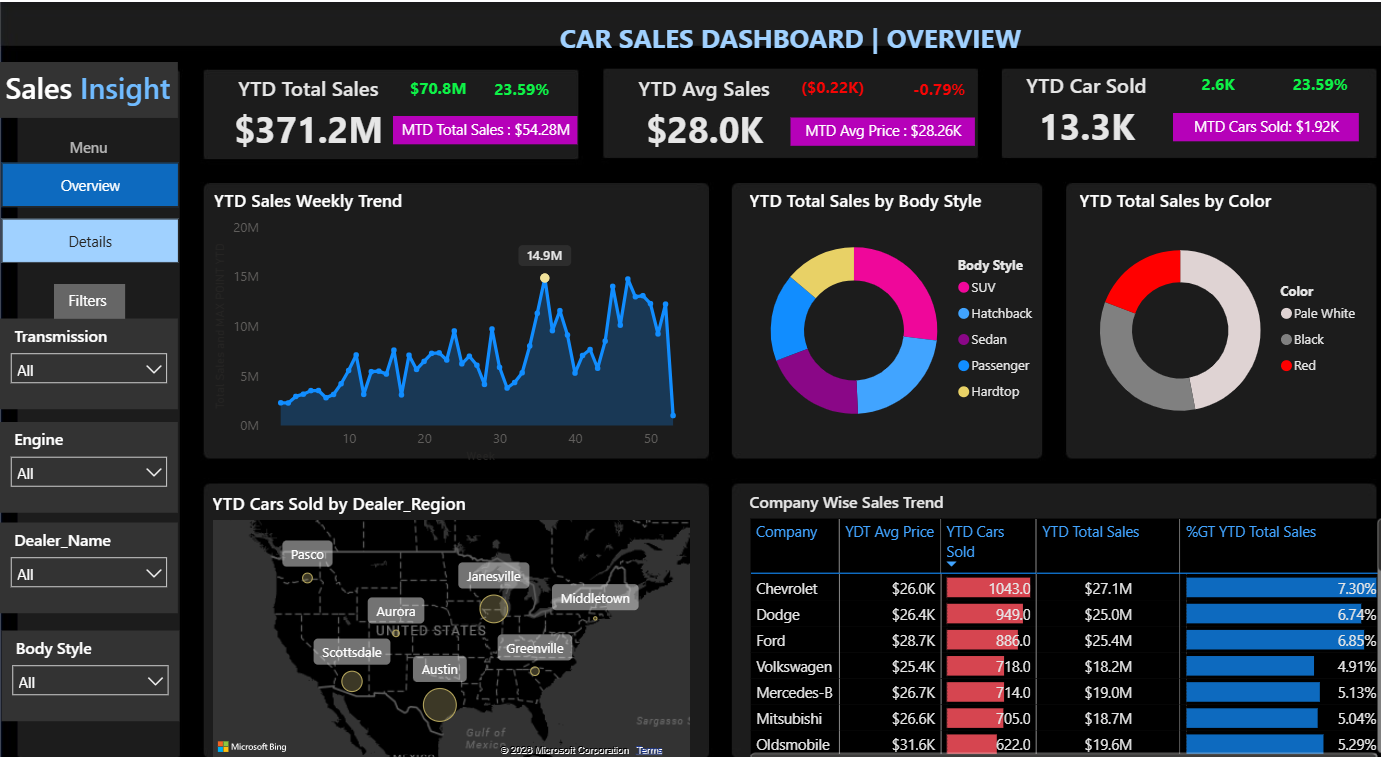

This screenshot's page, from the dashboard's own definition file:
{"tool":"powerbi","page":{"name":"Overview","canvas":[1280,720],"ordinal":0},"visuals":[{"type":"card","title":"YTD Total Sales ","fields":{"Values":["car_data.YTD Total Sales"]},"box":[190.9,66.1,183.3,75.6],"z":0},{"type":"card","fields":{"Values":["car_data.Sales Difference"]},"box":[334.6,60.6,134.8,40.9],"z":1000},{"type":"card","fields":{"Values":["car_data.YOY Sales Growth"]},"box":[417.9,57.5,122.7,48.5],"z":2000},{"type":"card","fields":{"Values":["car_data.MTD KPI"]},"box":[360.4,104.5,169.6,25.7],"z":3000},{"type":"card","title":"YTD Avg Sales ","fields":{"Values":["car_data.YDT Avg Price"]},"box":[555.7,66.6,183.2,75.7],"z":4000},{"type":"card","fields":{"Values":["car_data.Avg Sales"]},"box":[696.5,59.1,134.8,40.9],"z":5000},{"type":"card","fields":{"Values":["car_data.YOY Avg Price Growth"]},"box":[794.8,60.3,134.5,41.4],"z":6000},{"type":"card","fields":{"Values":["car_data.MTD Avg Price KPI"]},"box":[725.3,106,169.6,25.7],"z":7000},{"type":"card","title":"YTD Car Sold ","fields":{"Values":["car_data.YTD Cars Sold"]},"box":[906.9,63.8,182.8,75.9],"z":8000},{"type":"card","fields":{"Values":["car_data.Cars Sold Difference"]},"box":[1051.7,56.9,134.5,41.4],"z":9000},{"type":"card","fields":{"Values":["car_data.YOY Sales Growth"]},"box":[1144.8,56.9,134.5,41.4],"z":10000},{"type":"card","fields":{"Values":["car_data.MTD Cars Sold KPI"]},"box":[1077.6,101.7,170.7,25.9],"z":11000},{"type":"areaChart","title":"YTD Sales Weekly Trend ","fields":{"Category":["Calender Table.Week"],"Y":["car_data.Total Sales","car_data.MAX POINT YTD"]},"box":[191.4,170.7,448.3,256.9],"z":12000},{"type":"donutChart","fields":{"Category":["car_data.Body Style"],"Y":["car_data.YTD Total Sales"]},"box":[682.8,170.7,279.3,239.7],"z":13000},{"type":"donutChart","fields":{"Category":["car_data.Color"],"Y":["car_data.YTD Total Sales"]},"box":[986.2,170.7,272.4,239.7],"z":14000},{"type":"map","fields":{"Category":["car_data.Dealer_Region"],"Size":["car_data.YTD Cars Sold"]},"box":[190.8,449.7,448.2,254.4],"z":15000},{"type":"tableEx","title":"Company Wise Sales Trend ","fields":{"Values":["car_data.Company","car_data.YDT Avg Price","car_data.YTD Cars Sold","car_data.YTD Total Sales1","car_data.YTD Total Sales"]},"box":[682.9,449.7,596.6,254.4],"z":16000},{"type":"textbox","box":[417.9,10.6,623.9,46.9],"z":17000},{"type":"slicer","fields":{"Values":["car_data.Body Style"]},"box":[1.5,576.9,163.5,83.3],"z":18000},{"type":"slicer","fields":{"Values":["car_data.Dealer_Name"]},"box":[0,478.5,163.5,83.3],"z":19000},{"type":"slicer","fields":{"Values":["car_data.Engine"]},"box":[0,386.1,163.5,83.3],"z":20000},{"type":"slicer","fields":{"Values":["car_data.Transmission"]},"box":[0,290.7,163.5,83.3],"z":21000},{"type":"textbox","box":[50,258.9,65.1,31.8],"z":22000},{"type":"textbox","box":[0,54.5,163.5,51.5],"z":23000},{"type":"textbox","box":[51.4,118.6,64.3,30],"z":24000},{"type":"pageNavigator","box":[1.5,146.9,163.5,92.4],"z":25000}]}

Visuals, with their boxes on the page's 1280x720 design canvas (x1, y1, x2, y2). These are canvas units, not pixel positions in the 1381x757 screenshot, which may show the page scaled, cropped or inside an application window:
"YTD Total Sales " card: bbox=(191, 66, 374, 142)
card - car_data.Sales Difference: bbox=(335, 61, 469, 102)
card - car_data.YOY Sales Growth: bbox=(418, 58, 541, 106)
card - car_data.MTD KPI: bbox=(360, 104, 530, 130)
"YTD Avg Sales " card: bbox=(556, 67, 739, 142)
card - car_data.Avg Sales: bbox=(696, 59, 831, 100)
card - car_data.YOY Avg Price Growth: bbox=(795, 60, 929, 102)
card - car_data.MTD Avg Price KPI: bbox=(725, 106, 895, 132)
"YTD Car Sold " card: bbox=(907, 64, 1090, 140)
card - car_data.Cars Sold Difference: bbox=(1052, 57, 1186, 98)
card - car_data.YOY Sales Growth: bbox=(1145, 57, 1279, 98)
card - car_data.MTD Cars Sold KPI: bbox=(1078, 102, 1248, 128)
"YTD Sales Weekly Trend " areaChart: bbox=(191, 171, 640, 428)
donutChart - car_data.Body Style x car_data.YTD Total Sales: bbox=(683, 171, 962, 410)
donutChart - car_data.Color x car_data.YTD Total Sales: bbox=(986, 171, 1259, 410)
map - car_data.Dealer_Region x car_data.YTD Cars Sold: bbox=(191, 450, 639, 704)
"Company Wise Sales Trend " tableEx: bbox=(683, 450, 1280, 704)
textbox: bbox=(418, 11, 1042, 58)
slicer - car_data.Body Style: bbox=(2, 577, 165, 660)
slicer - car_data.Dealer_Name: bbox=(0, 478, 164, 562)
slicer - car_data.Engine: bbox=(0, 386, 164, 469)
slicer - car_data.Transmission: bbox=(0, 291, 164, 374)
textbox: bbox=(50, 259, 115, 291)
textbox: bbox=(0, 54, 164, 106)
textbox: bbox=(51, 119, 116, 149)
pageNavigator: bbox=(2, 147, 165, 239)
